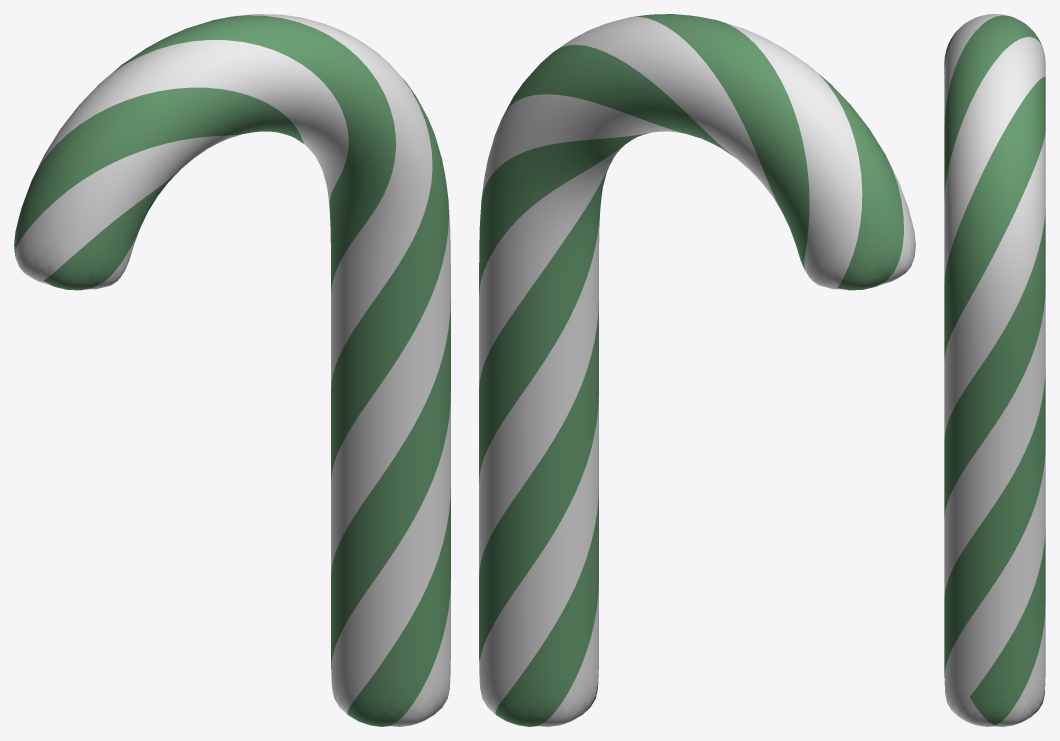
Rendered from candy.glb.
3 views of the same model, side by side, from view 1: azimuth 30°, elevation 25°; view 2: azimuth 150°, elevation 25°; view 3: azimuth 270°, elevation 25° (orthographic). The views are drawn at different scales.
Parts seen in each view (by area): view 1: Circle; view 2: Circle; view 3: Circle.
Part boxes in pixels (<box>): Circle: <box>14,14,450,726</box>; Circle: <box>479,14,915,726</box>; Circle: <box>944,14,1045,726</box>.
Size of the model in its own units: 2.6 by 4.3 by 0.6389.
